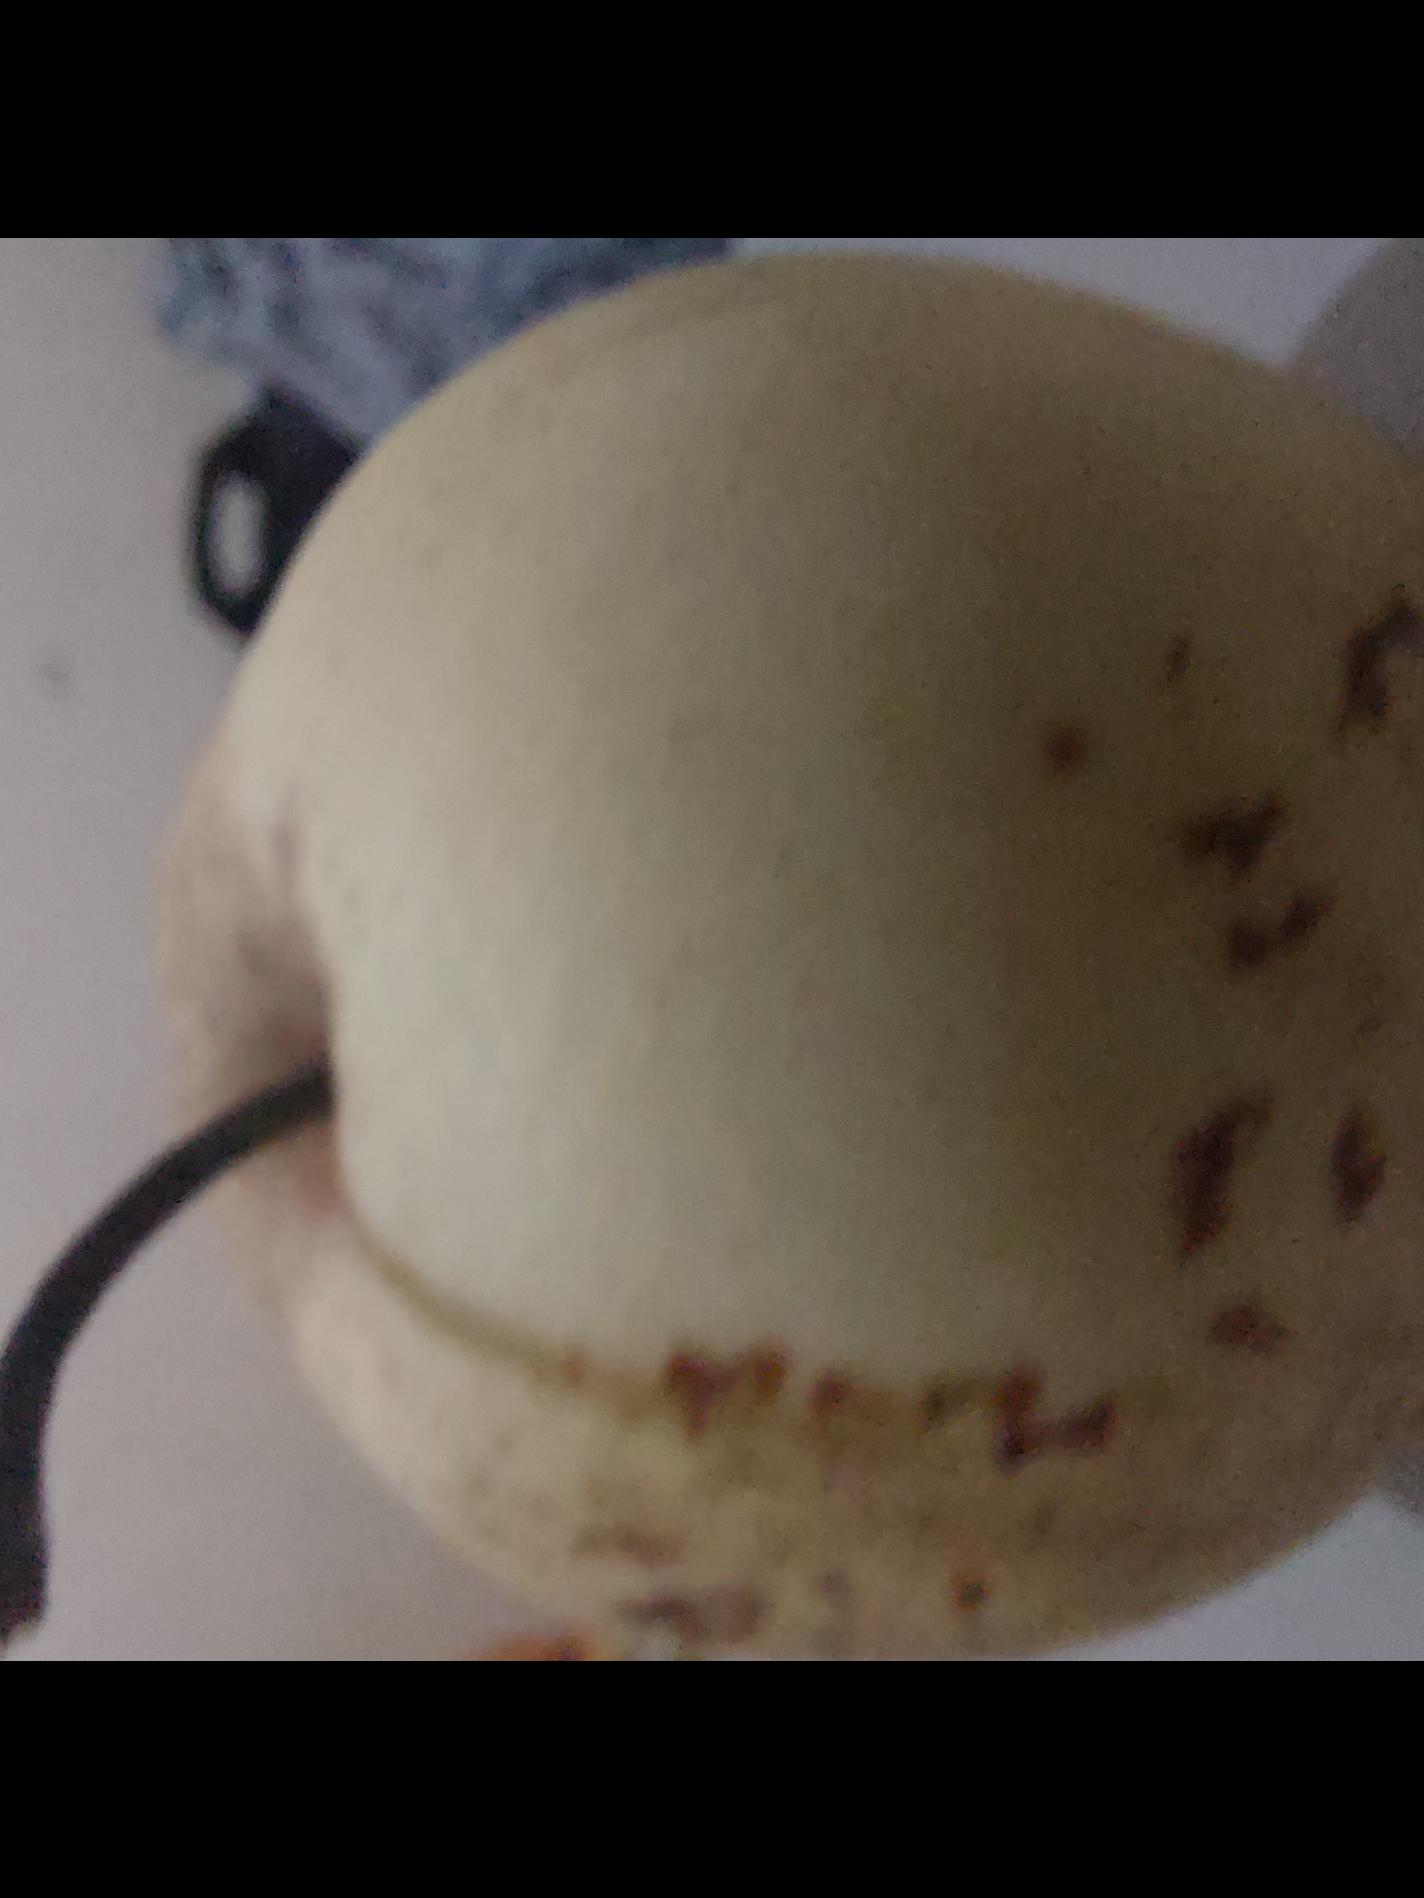Bad Pear: (138, 236, 1424, 1662)
